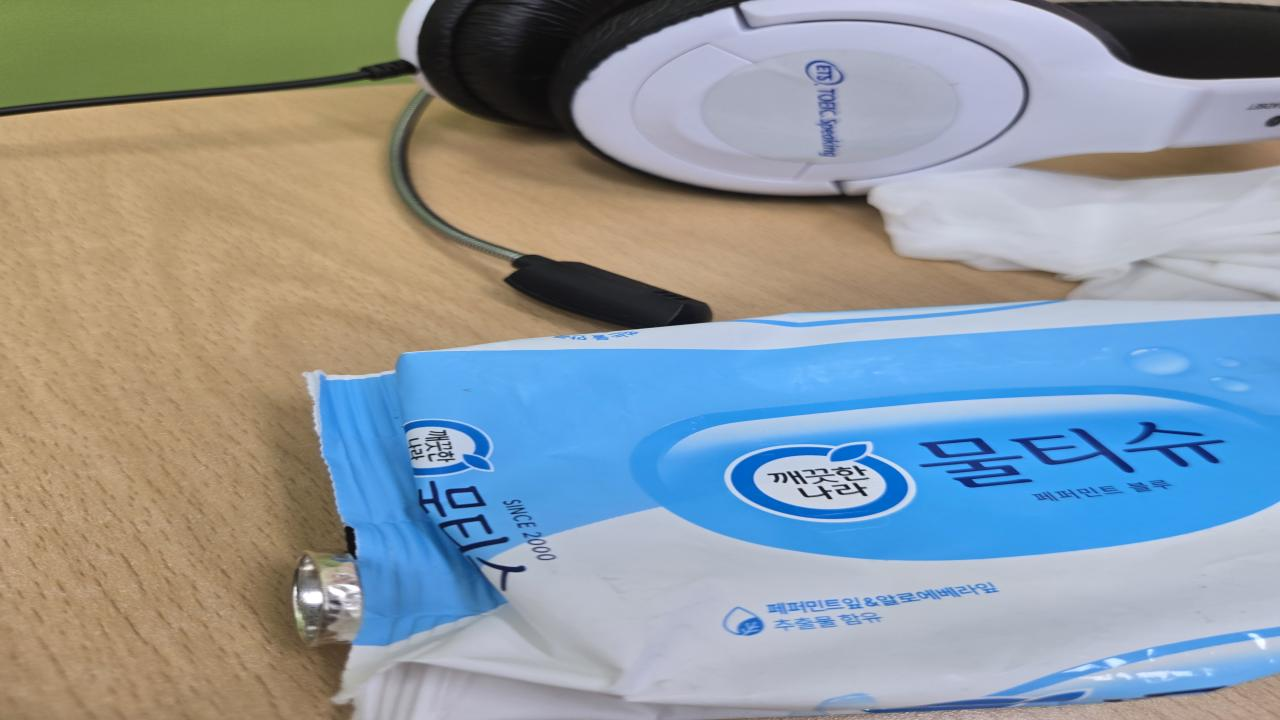ring: (286, 551, 365, 644)
